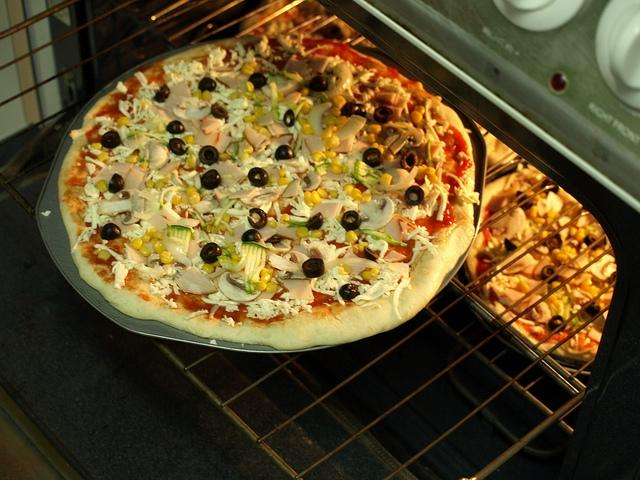mushroom: (98, 189, 144, 225), (218, 271, 262, 302), (176, 265, 218, 295), (358, 197, 396, 230), (283, 278, 314, 300)
